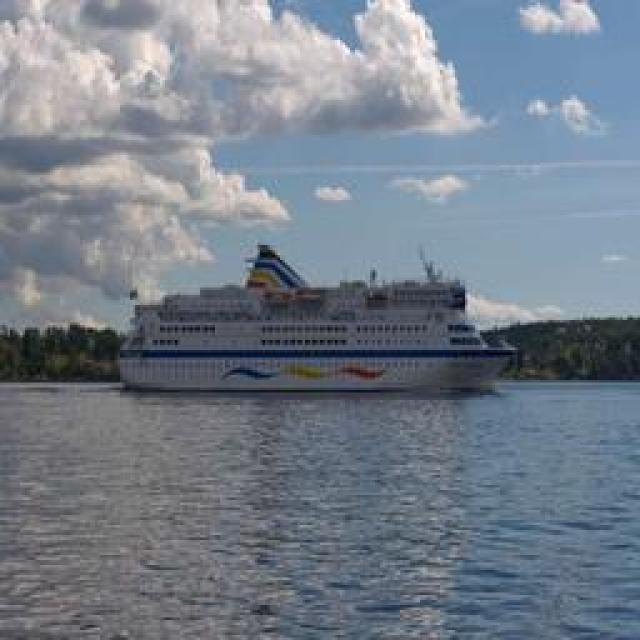CIV_Ship: (122, 238, 510, 396)
